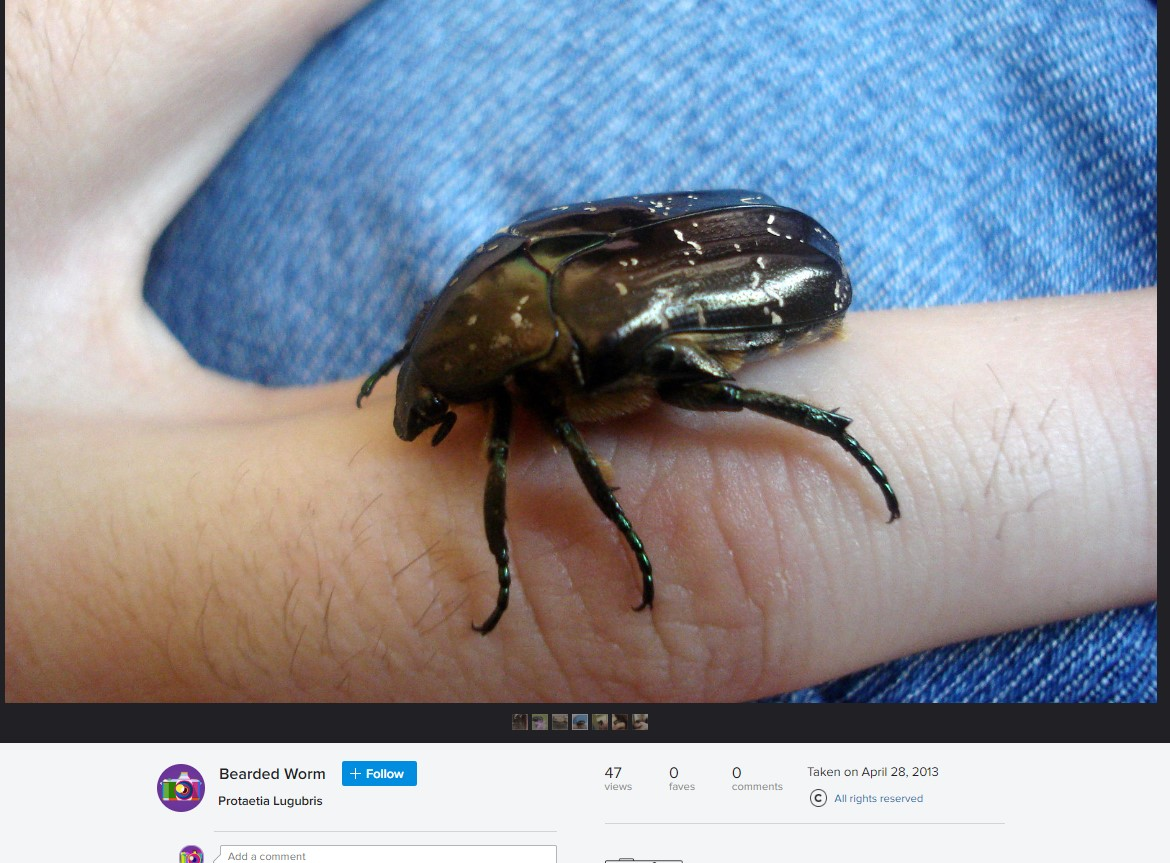Protaetia_lugubris: (343, 180, 906, 643)
